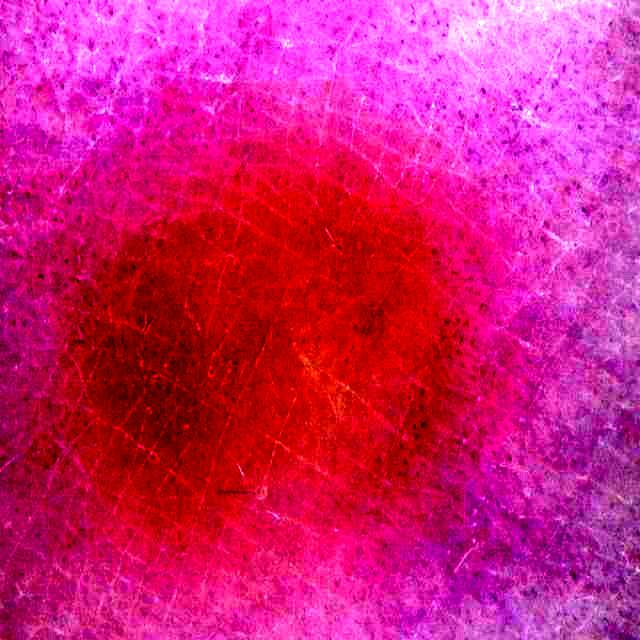DF: (157, 137, 436, 523)
